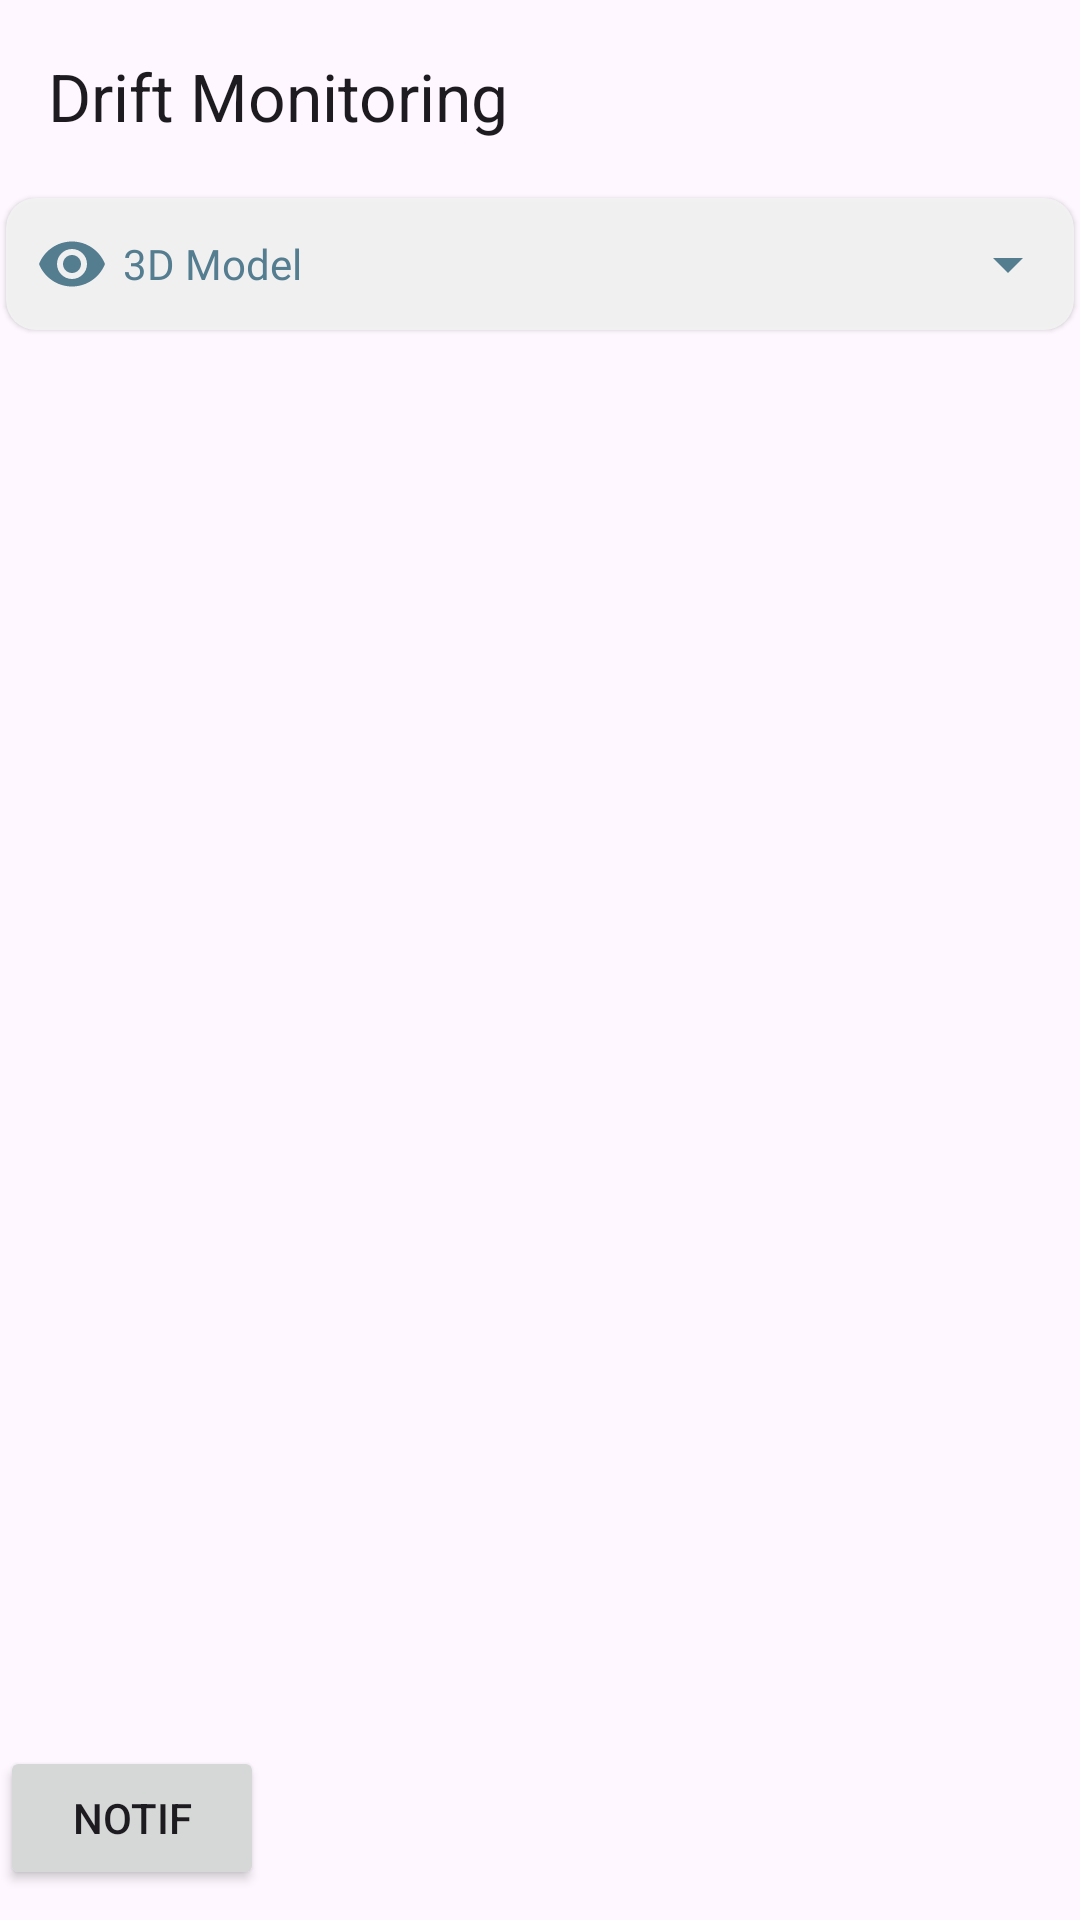

Where to tap for icons on this 1080*1920 app screen, as (x=x, y=y):
dropdown: (x=1008, y=265)
hide: (x=72, y=264)
